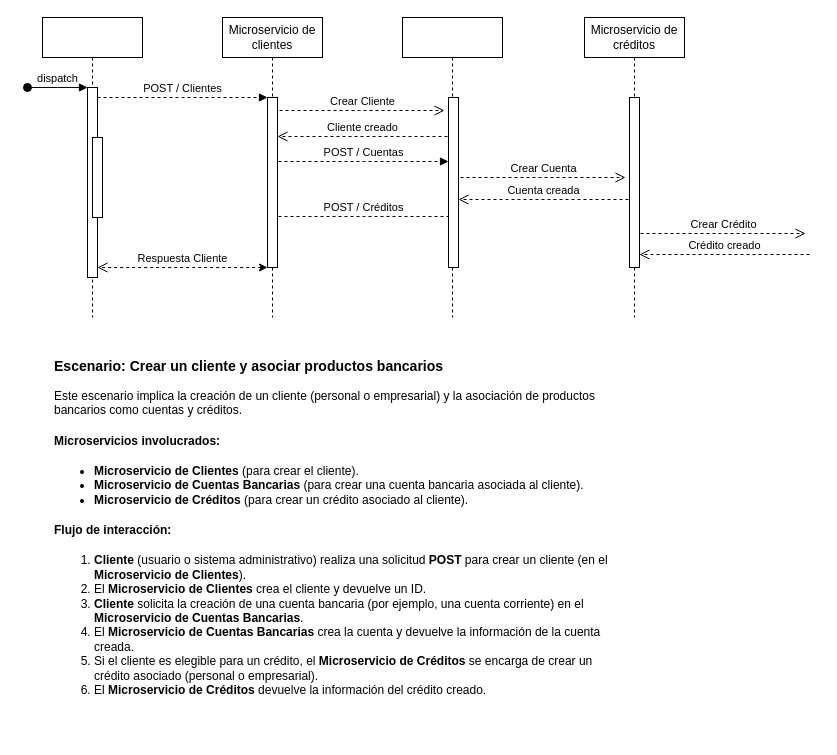
The diagram is 837 pixels wide and 755 high, and some of its shapes have lost their labels. Each missing label, with the box of its shape:
Cliente: (42, 16, 142, 318)
Microservicio de cuentas bancarias: (402, 16, 502, 318)
